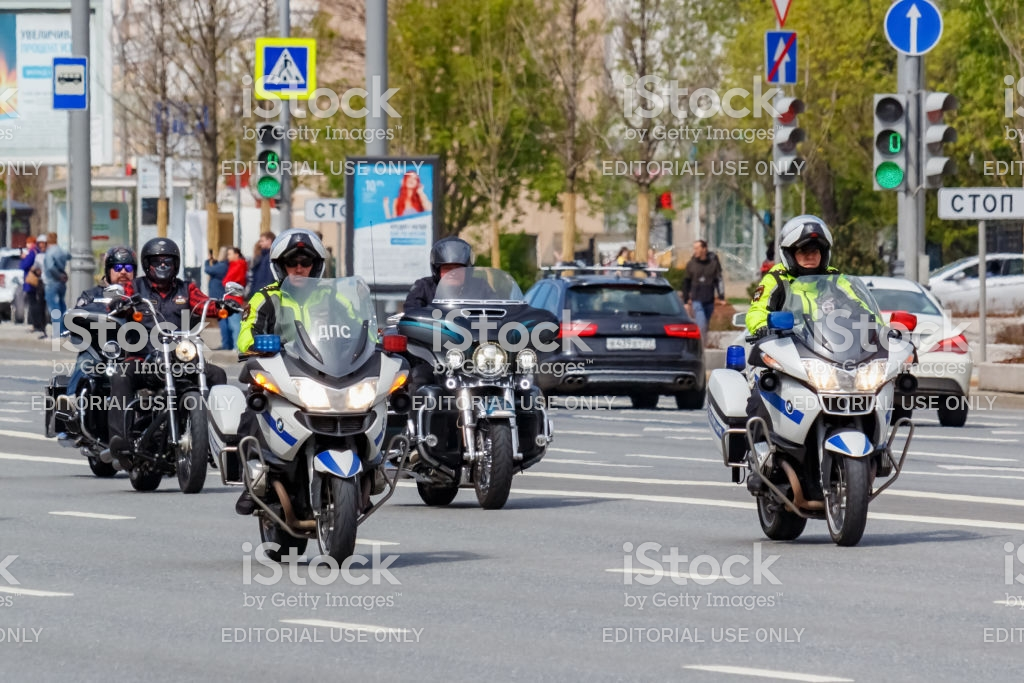helmet: (268, 232, 326, 282), (776, 219, 835, 258), (426, 238, 478, 272), (102, 245, 146, 281), (144, 238, 178, 279)
